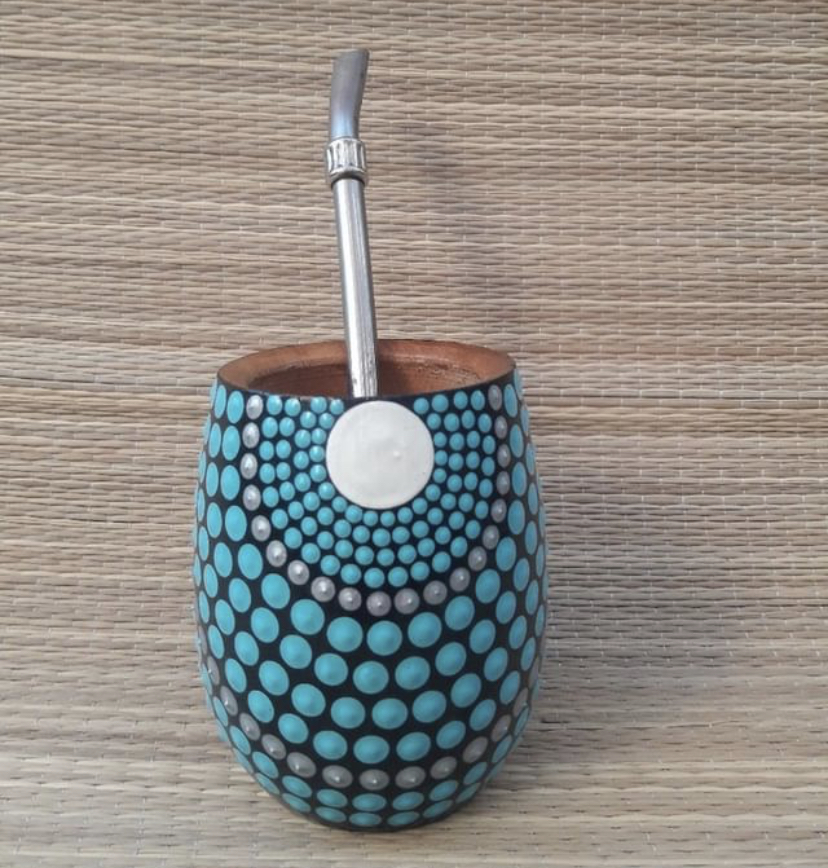madera: (197, 337, 547, 837)
mate: (194, 33, 556, 845)
